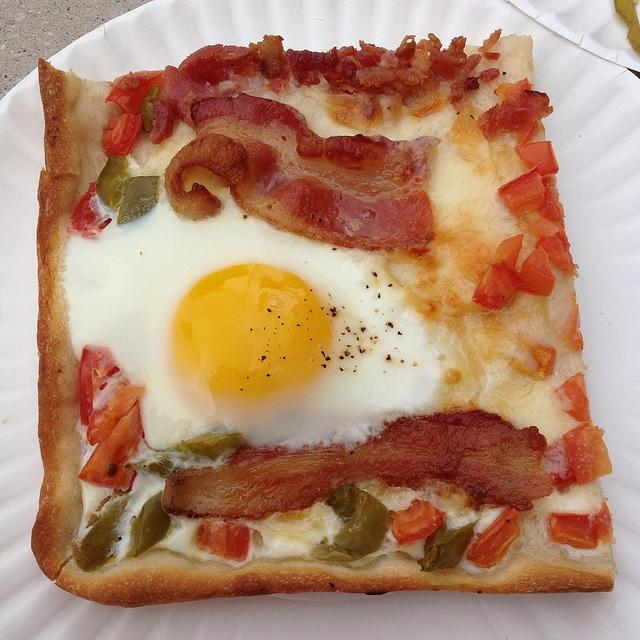bell pepper: (78, 400, 148, 490), (310, 484, 389, 562), (86, 359, 145, 446), (72, 497, 132, 573), (472, 234, 526, 312), (417, 518, 481, 572), (545, 501, 615, 548), (466, 508, 520, 568), (562, 422, 612, 486), (125, 490, 171, 559), (388, 499, 446, 545), (104, 70, 164, 114), (68, 182, 112, 240), (498, 164, 545, 218), (196, 516, 250, 562), (79, 348, 107, 427), (117, 176, 161, 226), (94, 154, 131, 212), (508, 339, 556, 380), (101, 113, 144, 157), (519, 246, 556, 296), (514, 140, 560, 180), (556, 372, 590, 423), (123, 452, 185, 478), (539, 175, 566, 229), (150, 100, 174, 145), (139, 85, 159, 132), (514, 110, 540, 146)
tomato: (79, 344, 144, 446), (78, 398, 145, 489), (472, 234, 526, 312), (545, 497, 616, 549), (466, 508, 520, 569), (106, 70, 166, 116), (390, 498, 446, 544), (497, 166, 545, 218), (196, 517, 250, 563), (70, 181, 112, 237), (511, 334, 557, 382), (515, 246, 556, 296), (535, 230, 575, 278), (102, 112, 144, 156), (546, 438, 578, 495), (514, 140, 559, 180), (556, 370, 590, 422)
